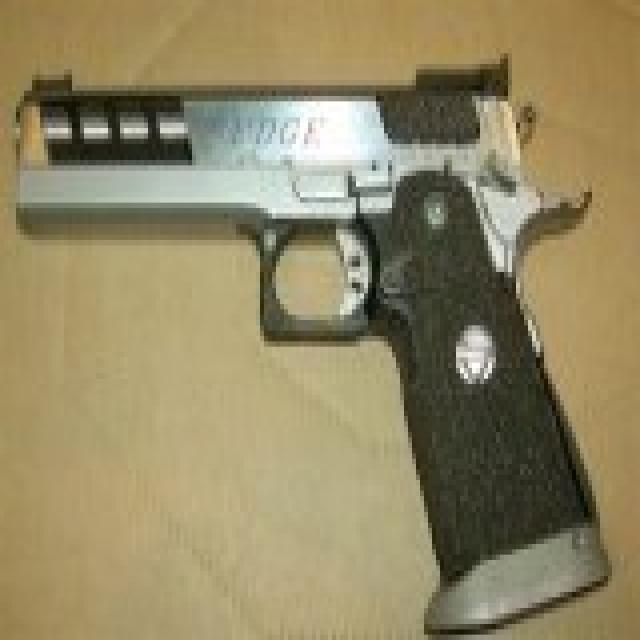Gun: (16, 46, 629, 602)
